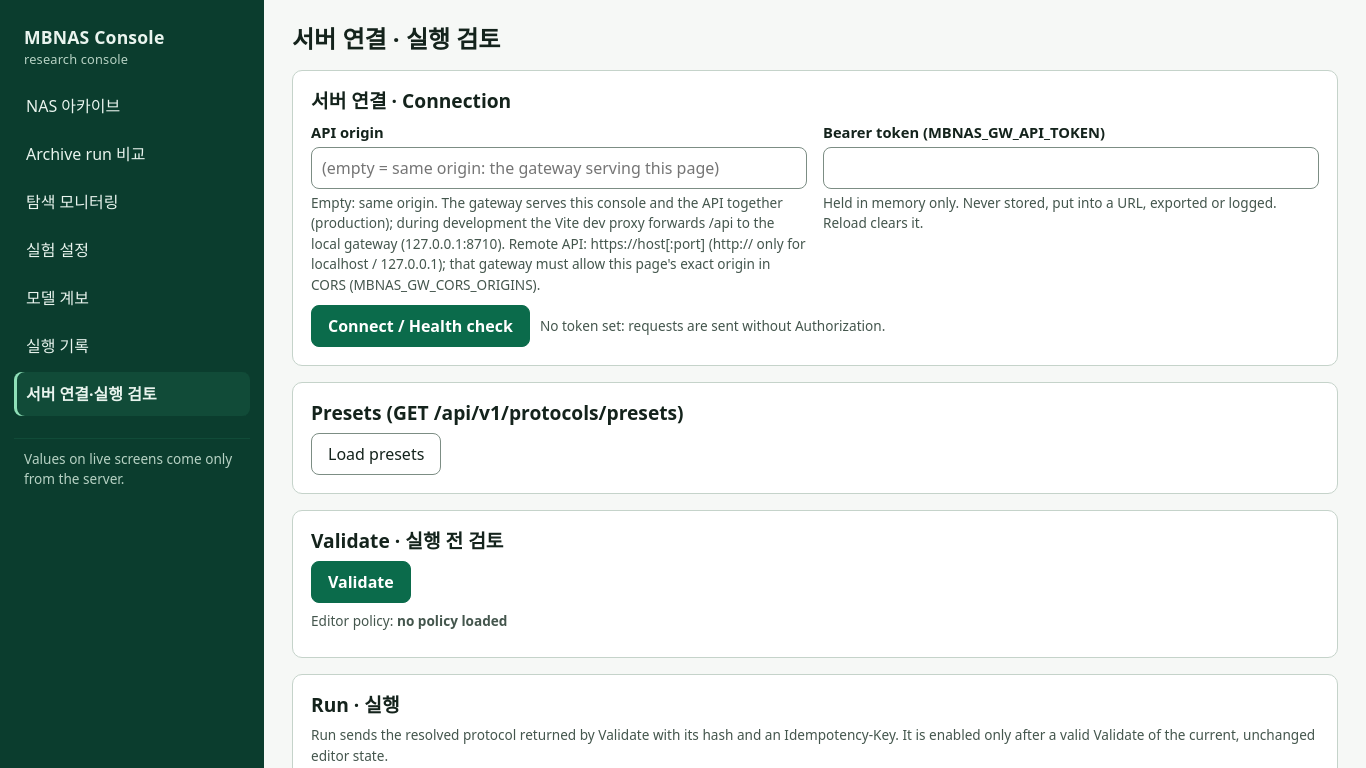
Test case: Server screen flow › shows a clear connection error and keeps working
Click the button with test id "connect-btn": (420, 326) [311,305,530,347]
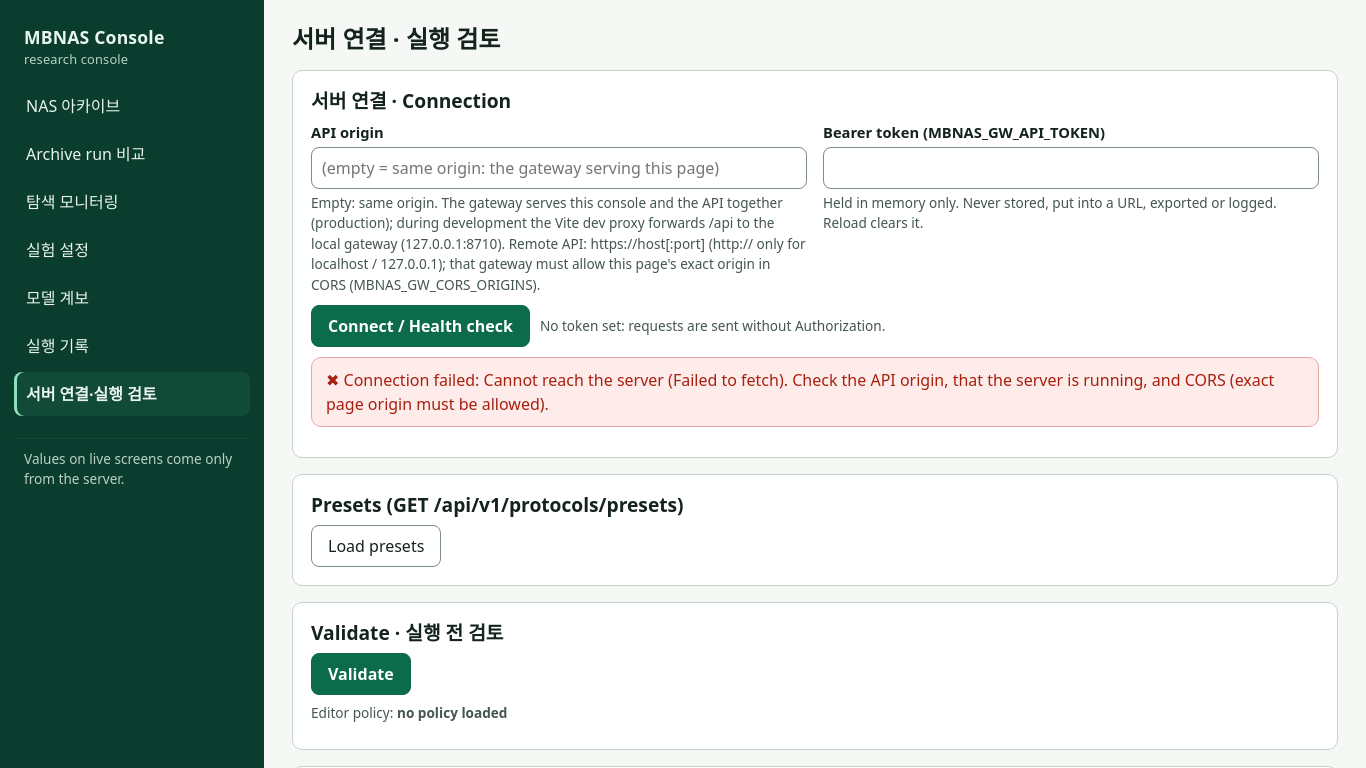
Expected: the text with test id "connection-error" shows "Cannot reach the server", [326,369,1274,415]
